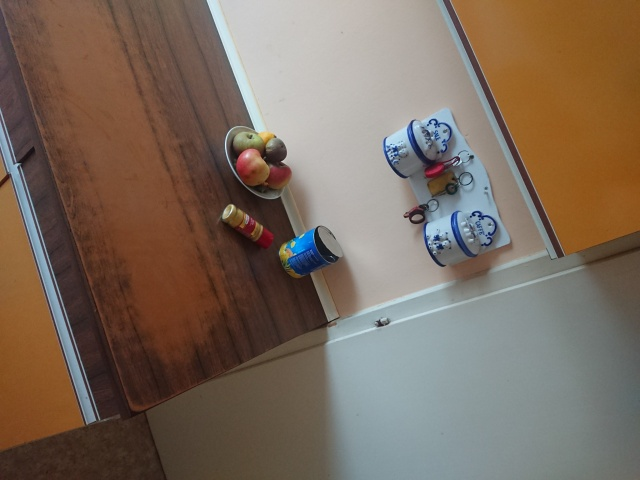Kotanyi Curry Spices Mix 70g: (220, 202, 275, 250)
